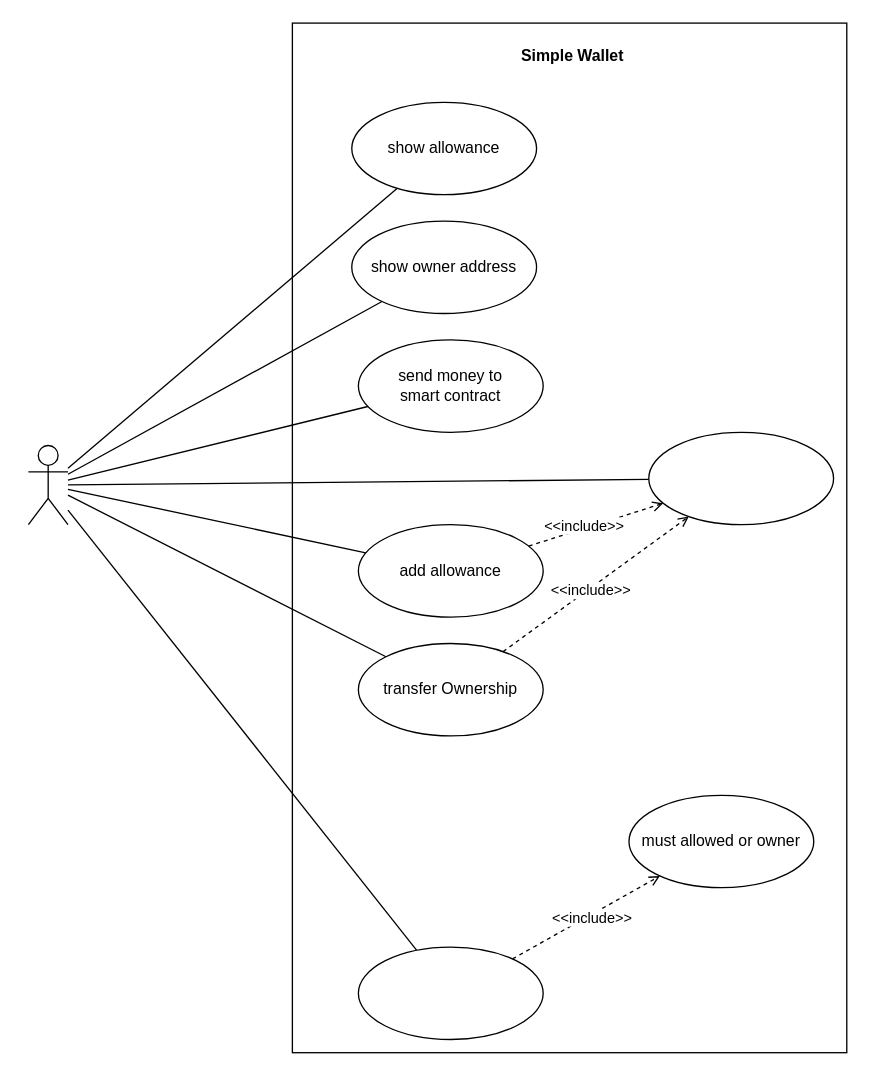
Some shapes in this 870 by 1076 pixel diagram are drawn without their labels. The centre of each missing label's shape, as x and y in pixels:
"check sender is owner" goes at (x=740, y=478).
"Sender" goes at (x=47, y=484).
"withdraw money" goes at (x=450, y=993).
